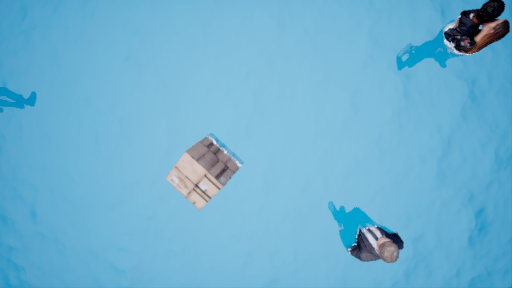person: (402, 1, 489, 82), (322, 199, 407, 268)
